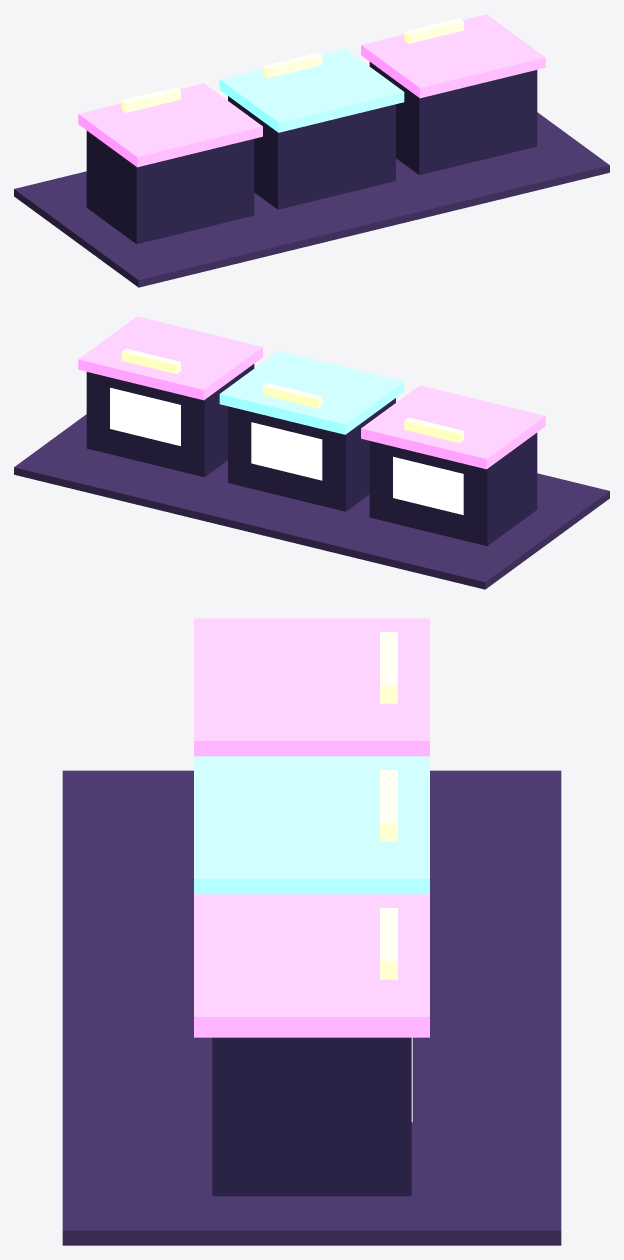
File: 03_arcade_market_stalls.glb
3 views of the same model, one above another, from view 1: azimuth 30°, elevation 25°; view 2: azimuth 150°, elevation 25°; view 3: azimuth 270°, elevation 25° (orthographic). The views are drawn at different scales.
Visible parts, largest first — view 1: ground_0, stall_body_0_1, stall_body_2_9, stall_body_1_5, awning_1_6, awning_2_10, awning_0_2, sign_0_4, sign_2_12, sign_1_8; view 2: ground_0, stall_body_0_1, awning_1_6, awning_2_10, awning_0_2, stall_body_1_5, stall_body_2_9, front_window_1_7, front_window_0_3, front_window_2_11, sign_1_8, sign_0_4 (+1 smaller); view 3: ground_0, awning_2_10, stall_body_2_9, awning_0_2, awning_1_6, sign_0_4, sign_1_8, sign_2_12.
Part boxes in pixels (x1=…): ground_0: x1=14, y1=112, x2=609, y2=287; stall_body_0_1: x1=86, y1=130, x2=254, y2=244; stall_body_2_9: x1=369, y1=62, x2=537, y2=175; stall_body_1_5: x1=228, y1=96, x2=395, y2=209; awning_1_6: x1=219, y1=49, x2=404, y2=132; awning_2_10: x1=361, y1=14, x2=545, y2=98; awning_0_2: x1=78, y1=83, x2=262, y2=167; sign_0_4: x1=121, y1=87, x2=180, y2=112; sign_2_12: x1=404, y1=18, x2=463, y2=43; sign_1_8: x1=263, y1=53, x2=322, y2=78; ground_0: x1=14, y1=414, x2=609, y2=589; stall_body_0_1: x1=369, y1=432, x2=537, y2=546; awning_1_6: x1=219, y1=351, x2=404, y2=434; awning_2_10: x1=78, y1=316, x2=262, y2=400; awning_0_2: x1=361, y1=385, x2=545, y2=469; stall_body_1_5: x1=228, y1=398, x2=395, y2=511; stall_body_2_9: x1=86, y1=364, x2=254, y2=477; front_window_1_7: x1=251, y1=422, x2=322, y2=480; front_window_0_3: x1=393, y1=456, x2=463, y2=514; front_window_2_11: x1=110, y1=387, x2=180, y2=445; sign_1_8: x1=263, y1=383, x2=322, y2=408; sign_0_4: x1=404, y1=417, x2=463, y2=442; ground_0: x1=62, y1=770, x2=561, y2=1245; awning_2_10: x1=194, y1=894, x2=429, y2=1037; stall_body_2_9: x1=212, y1=1037, x2=411, y2=1196; awning_0_2: x1=194, y1=618, x2=429, y2=756; awning_1_6: x1=194, y1=756, x2=429, y2=894; sign_0_4: x1=380, y1=632, x2=397, y2=703; sign_1_8: x1=380, y1=770, x2=397, y2=841; sign_2_12: x1=380, y1=908, x2=397, y2=979.
Bounding box in the file's own units: 12 × 2.66 × 5.5.
